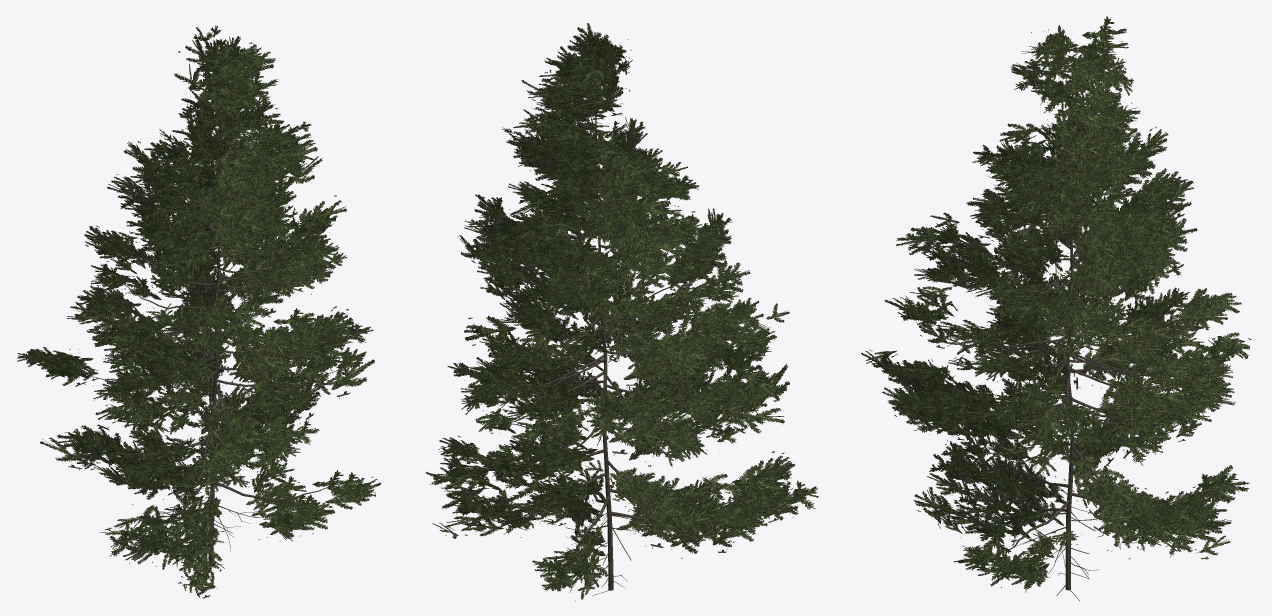
The model's file is fir.glb.
The picture shows the model from 3 angles, left to right: view 1: azimuth 30°, elevation 25°; view 2: azimuth 150°, elevation 25°; view 3: azimuth 270°, elevation 25°; orthographic projection. The views are drawn at different scales.
Parts seen in each view (by area): view 1: Fir 1; view 2: Fir 1; view 3: Fir 1.
Part boxes in pixels (x1,y1,x2,y2): Fir 1: (17,25,381,598); Fir 1: (426,23,818,600); Fir 1: (861,16,1250,600).
Bounding box in the file's own units: 5.39 × 9.02 × 5.64.
3 materials, 3 textured.
